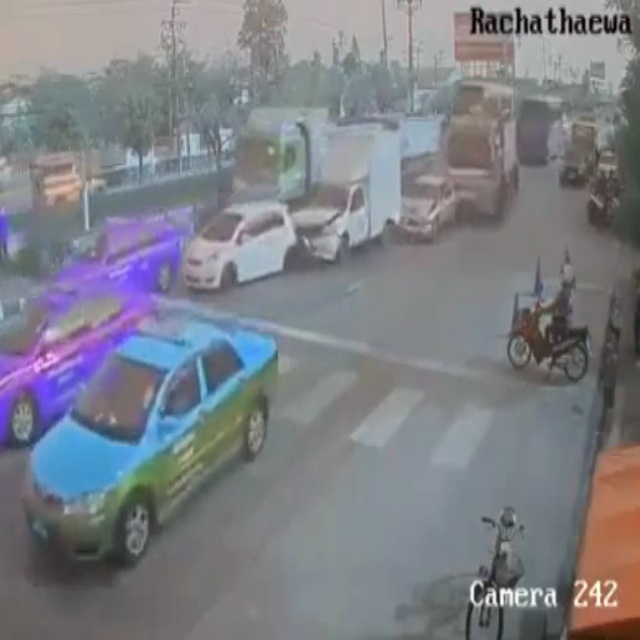acc: (195, 131, 453, 288)
